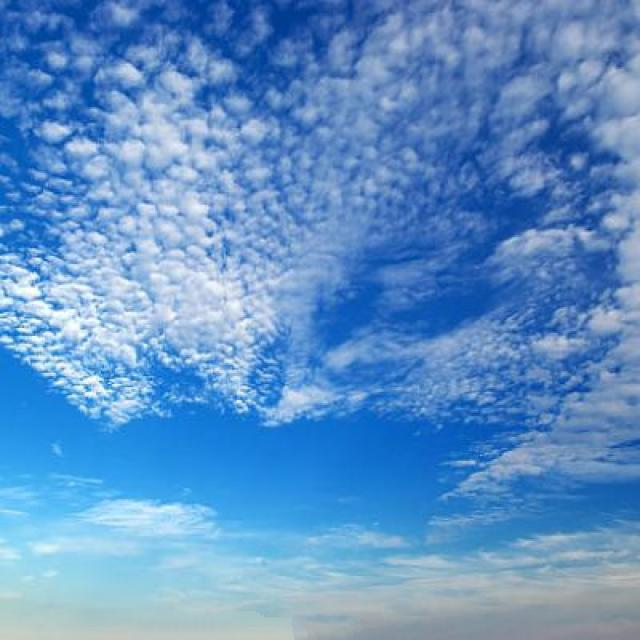Cc: (1, 1, 631, 502)
